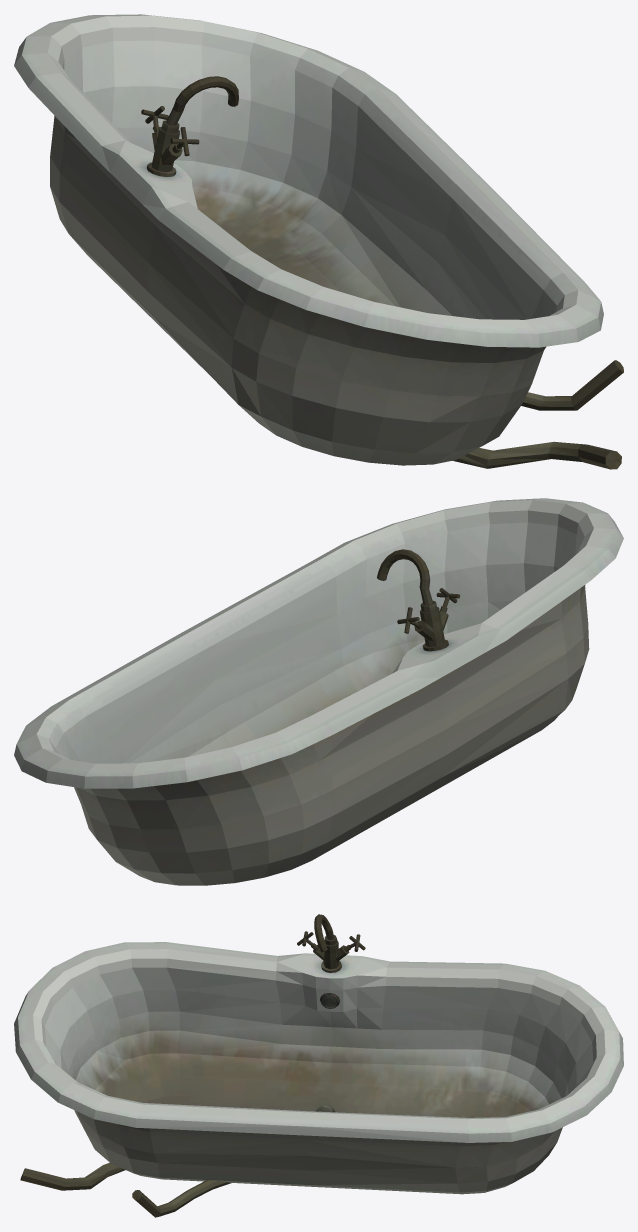
The model's file is Bathtub.obj.
3 renders of one model, top to bottom at view 1: azimuth 30°, elevation 25°; view 2: azimuth 150°, elevation 25°; view 3: azimuth 270°, elevation 25°, orthographic. The views are drawn at different scales.
Visible parts, largest first — view 1: Mesh_0424; view 2: Mesh_0424; view 3: Mesh_0424.
Part boxes in pixels (bbox=[...]): Mesh_0424: bbox=[14, 14, 623, 469]; Mesh_0424: bbox=[14, 498, 623, 885]; Mesh_0424: bbox=[14, 914, 623, 1217].
Bounding box in the file's own units: 4566 × 3475 × 8817.
